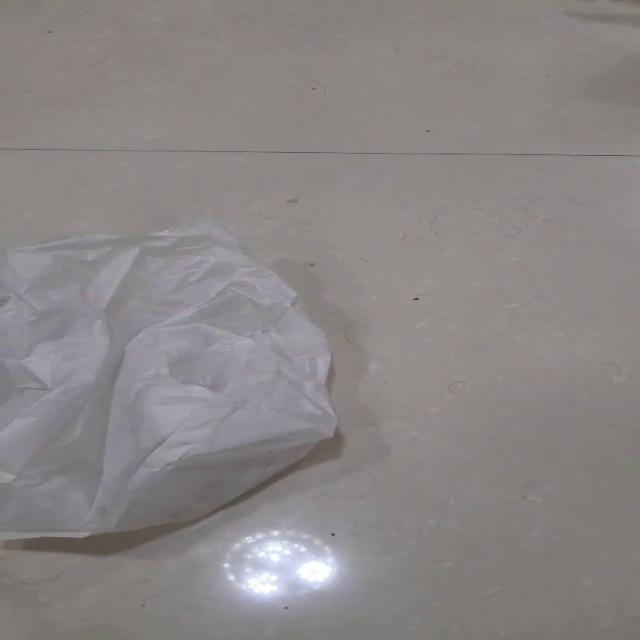plastic: (0, 216, 339, 538)
